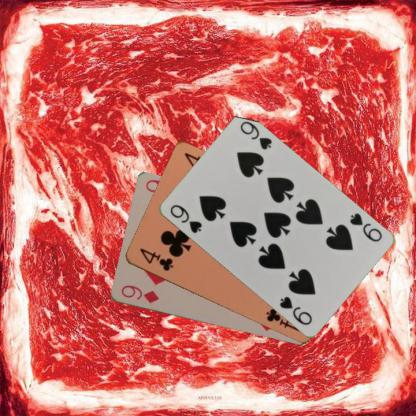4c: (136, 245, 174, 272)
9d: (118, 283, 160, 305)
9s: (347, 210, 383, 244), (167, 202, 203, 235)
